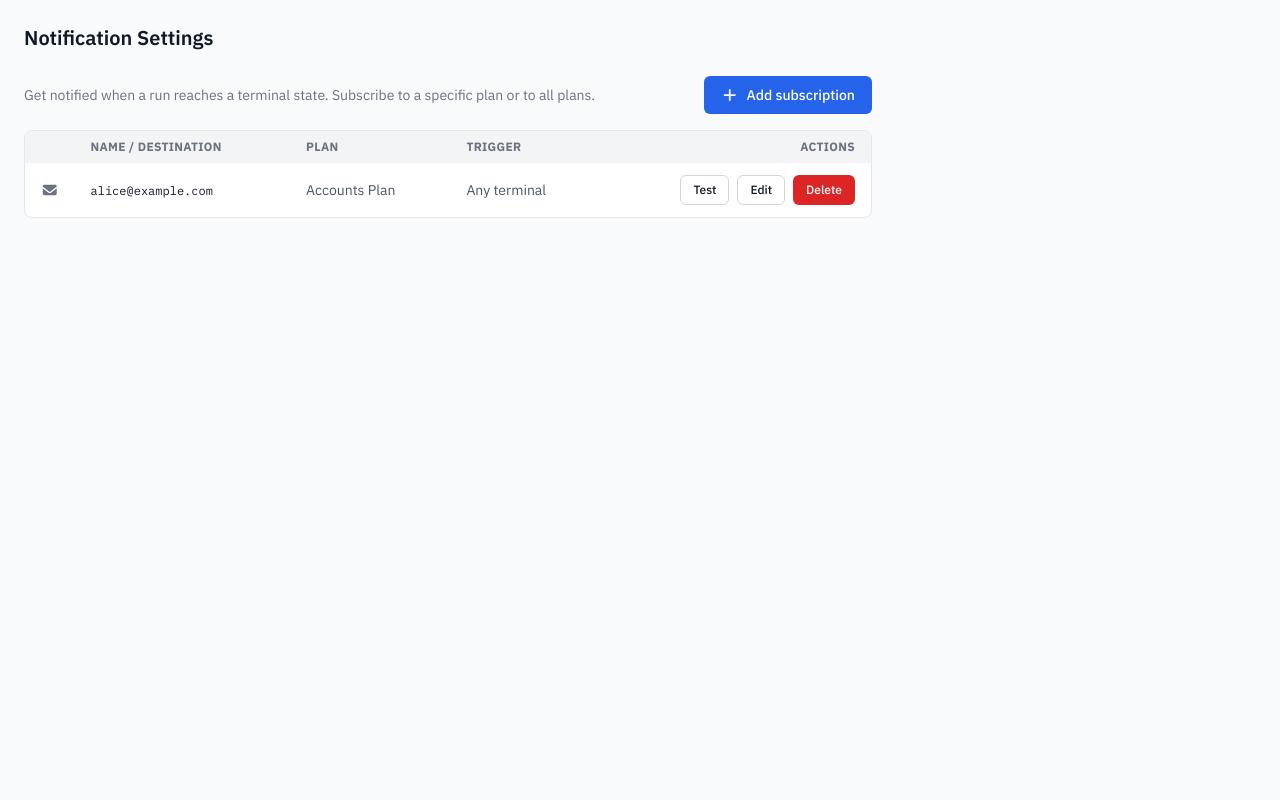
Notification Settings page › surfaces a success toast when test-send succeeds
Step 1. Click the button "Test" → (705, 190), box [680,175,729,205]
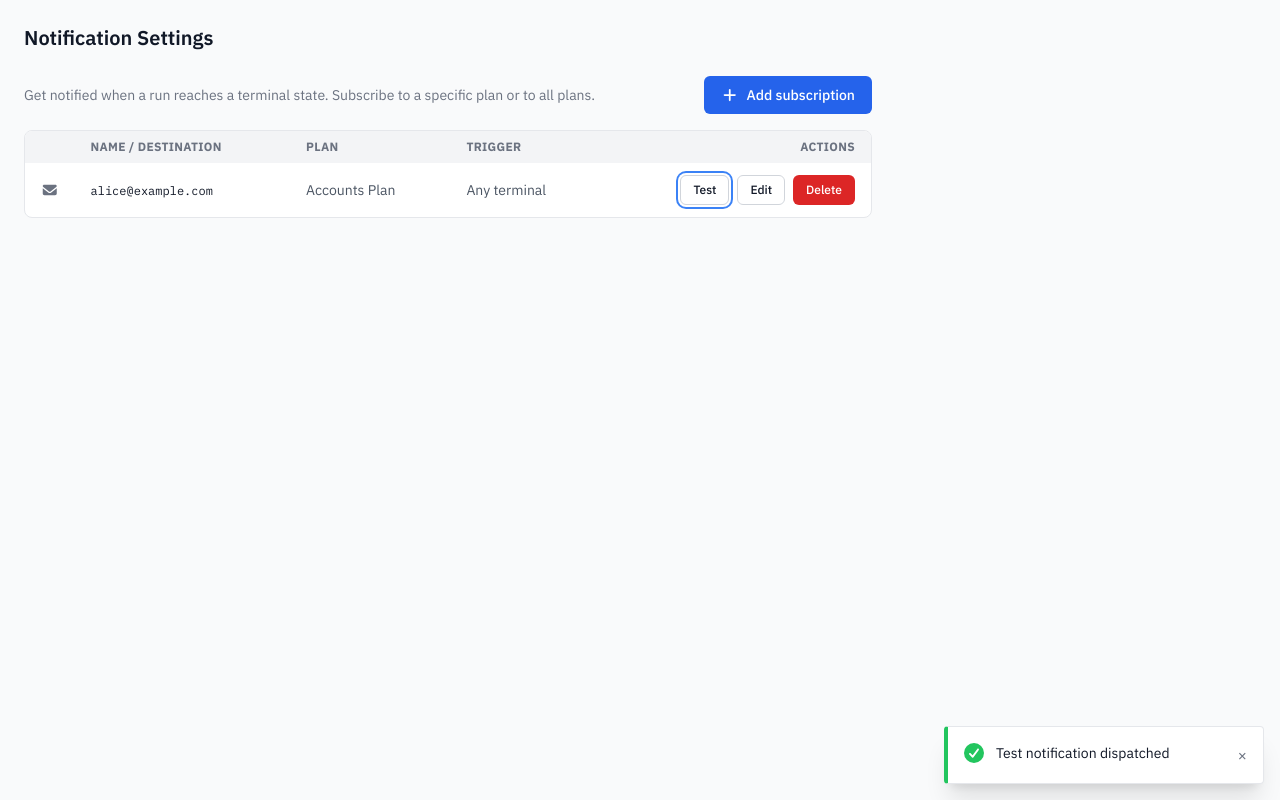
expect the text "Test notification dispatched" is shown: met, box [996,744,1170,762]
